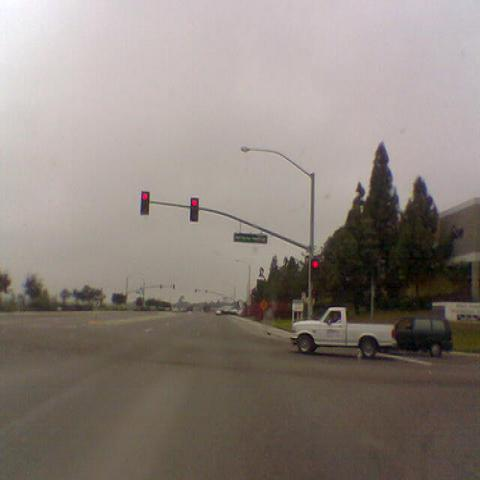car: (394, 316, 452, 358), (50, 304, 70, 313)
truck: (290, 308, 398, 358), (394, 316, 454, 358)
